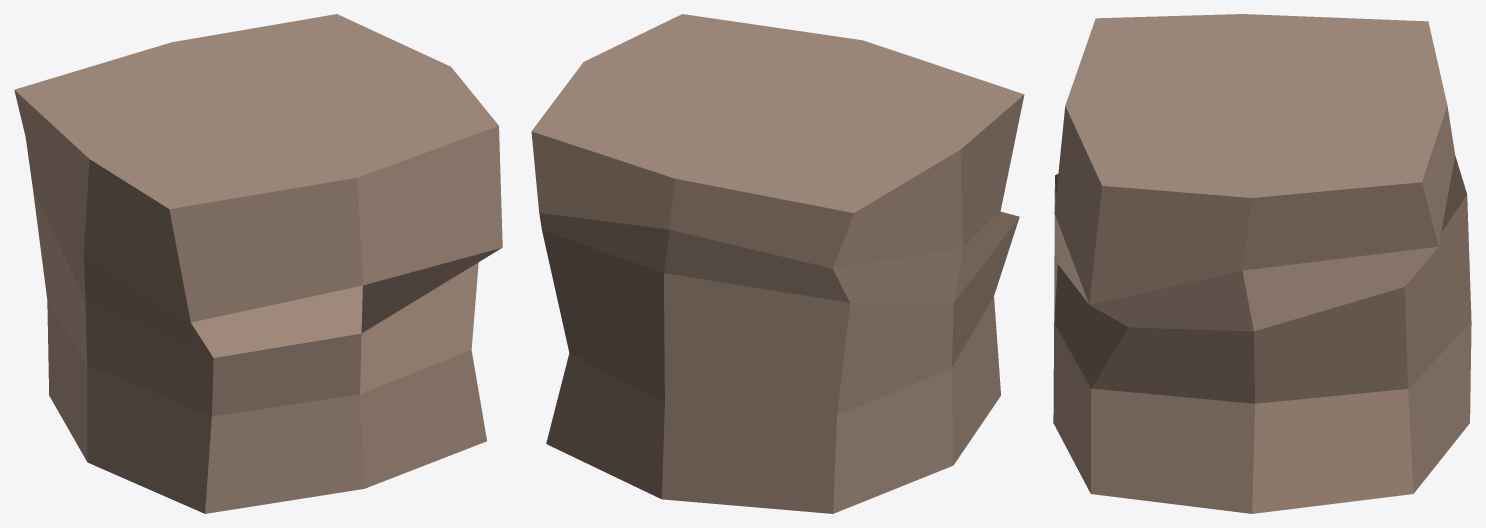
File: Huge_Rock_5_5_4_Stackable_Colored.fbx
The picture shows the model from 3 angles, left to right: view 1: azimuth 30°, elevation 25°; view 2: azimuth 150°, elevation 25°; view 3: azimuth 270°, elevation 25°; orthographic projection. The views are drawn at different scales.
Parts seen in each view (by area): view 1: Huge_Rock_5_5_4_Stackable; view 2: Huge_Rock_5_5_4_Stackable; view 3: Huge_Rock_5_5_4_Stackable.
Part boxes in pixels (bbox=[...]): Huge_Rock_5_5_4_Stackable: bbox=[14, 14, 502, 513]; Huge_Rock_5_5_4_Stackable: bbox=[531, 14, 1024, 513]; Huge_Rock_5_5_4_Stackable: bbox=[1053, 14, 1471, 513].
Bounding box in the file's own units: 504 × 400 × 478.
